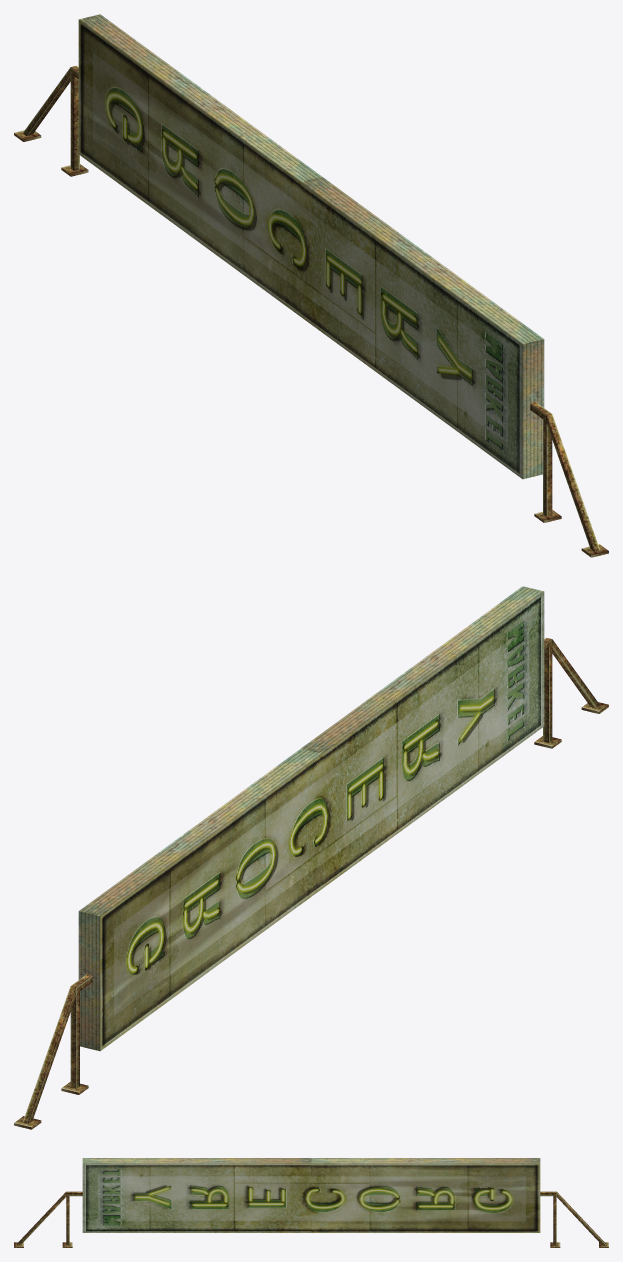
Rendered from grocery_sign4.fbx.
The picture shows the model from 3 angles, top to bottom: view 1: azimuth 30°, elevation 25°; view 2: azimuth 150°, elevation 25°; view 3: azimuth 270°, elevation 25°; orthographic projection. The views are drawn at different scales.
Visible parts, largest first — view 1: mesh_0; view 2: mesh_0; view 3: mesh_0.
Boxes of the visible parts, bbox=[...] form: mesh_0: bbox=[14, 14, 608, 557]; mesh_0: bbox=[14, 586, 608, 1129]; mesh_0: bbox=[14, 1158, 608, 1247].
Size of the model in its own units: 36.63 by 268 by 1700.
Materials: 1 (1 with a texture image).
